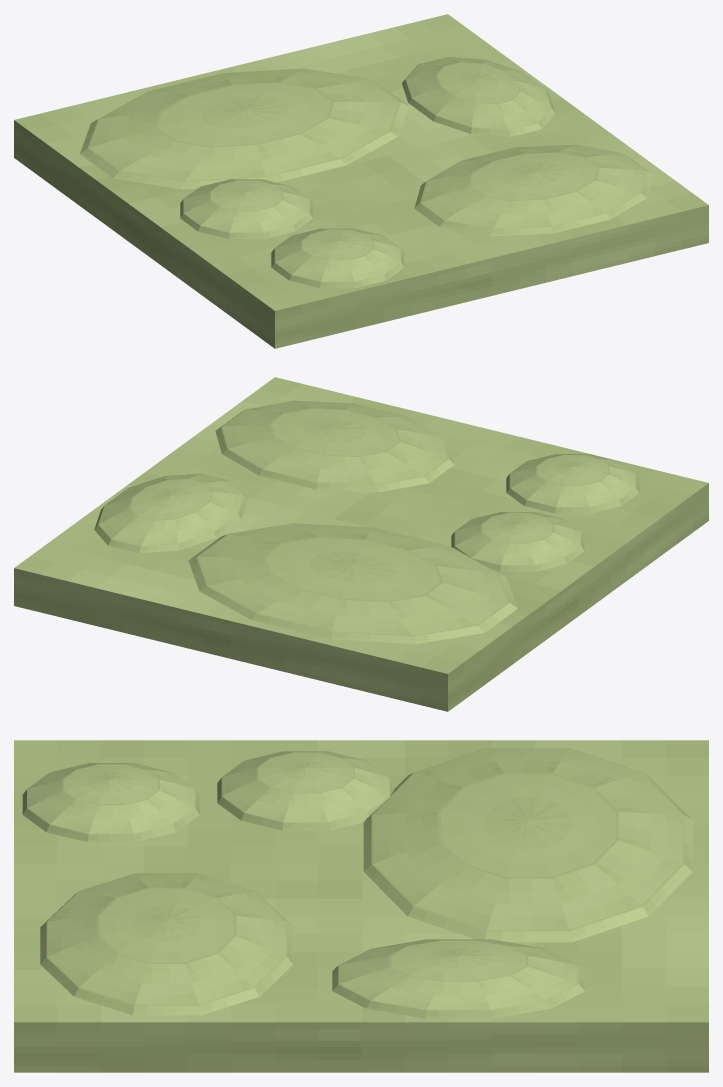
The model's file is Level2.gltf.
3 views of the same model, one above another, from view 1: azimuth 30°, elevation 25°; view 2: azimuth 150°, elevation 25°; view 3: azimuth 270°, elevation 25° (orthographic). The views are drawn at different scales.
Parts seen in each view (by area): view 1: mesh, sphere (×5); view 2: mesh, sphere (×5); view 3: sphere (×5), mesh.
Boxes of the visible parts, bbox=[...] form: mesh: bbox=[14, 14, 708, 348]; sphere (×5): bbox=[80, 57, 653, 287]; mesh: bbox=[14, 377, 708, 711]; sphere (×5): bbox=[94, 400, 639, 644]; sphere (×5): bbox=[22, 748, 692, 1018]; mesh: bbox=[14, 740, 708, 1072].
Bounding box in the file's own units: 3 × 0.375 × 3.12.
Materials: 1 (1 with a texture image).
